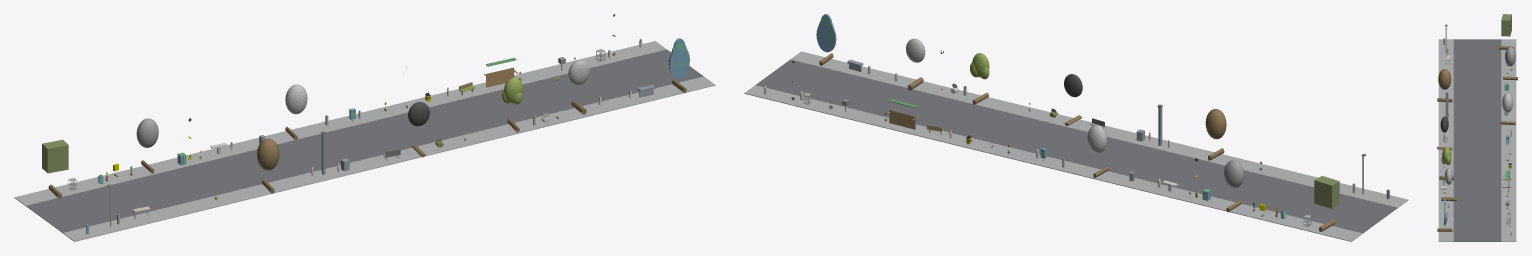
The picture shows the model from 3 angles, left to right: view 1: azimuth 30°, elevation 25°; view 2: azimuth 150°, elevation 25°; view 3: azimuth 270°, elevation 25°; orthographic projection. The views are drawn at different scales.
Parts seen in each view (by area): view 1: road_slab, sidewalk_left, sidewalk_right, inst_0018, inst_0025, inst_0020, inst_0021, inst_0019, inst_0023, inst_0024, inst_0022, inst_0026; view 2: road_slab, sidewalk_right, sidewalk_left, inst_0018, inst_0025, inst_0020, inst_0021, inst_0019, inst_0023, inst_0024, inst_0026, inst_0022; view 3: road_slab, sidewalk_right, sidewalk_left, inst_0018, inst_0020, inst_0021, inst_0019, inst_0023, inst_0024, inst_0022, inst_0025, inst_0008 (+2 smaller).
Part boxes in pixels (left/top/right/bottom): road_slab: left=26, top=49, right=703, bottom=232; sidewalk_left: left=63, top=76, right=715, bottom=241; sidewalk_right: left=14, top=41, right=666, bottom=205; inst_0018: left=42, top=139, right=68, bottom=198; inst_0025: left=668, top=38, right=689, bottom=93; inst_0020: left=257, top=138, right=279, bottom=193; inst_0021: left=285, top=84, right=307, bottom=140; inst_0019: left=136, top=118, right=158, bottom=173; inst_0023: left=501, top=77, right=523, bottom=132; inst_0024: left=568, top=60, right=589, bottom=114; inst_0022: left=408, top=102, right=429, bottom=157; inst_0026: left=484, top=57, right=518, bottom=87; road_slab: left=755, top=59, right=1397, bottom=233; sidewalk_right: left=744, top=85, right=1362, bottom=241; sidewalk_left: left=790, top=51, right=1408, bottom=207; inst_0018: left=1314, top=176, right=1339, bottom=231; inst_0025: left=816, top=14, right=836, bottom=65; inst_0020: left=1205, top=109, right=1226, bottom=160; inst_0021: left=1087, top=125, right=1109, bottom=177; inst_0019: left=1224, top=160, right=1244, bottom=212; inst_0023: left=970, top=53, right=989, bottom=104; inst_0024: left=906, top=38, right=925, bottom=90; inst_0026: left=887, top=99, right=919, bottom=129; inst_0022: left=1064, top=74, right=1082, bottom=125; road_slab: left=1453, top=39, right=1501, bottom=241; sidewalk_right: left=1501, top=39, right=1516, bottom=241; sidewalk_left: left=1438, top=39, right=1453, bottom=241; inst_0018: left=1499, top=14, right=1514, bottom=49; inst_0020: left=1437, top=69, right=1452, bottom=102; inst_0021: left=1500, top=93, right=1515, bottom=124; inst_0019: left=1503, top=47, right=1517, bottom=80; inst_0023: left=1439, top=147, right=1454, bottom=180; inst_0024: left=1441, top=168, right=1456, bottom=201; inst_0022: left=1437, top=116, right=1452, bottom=149; inst_0025: left=1437, top=199, right=1452, bottom=231; inst_0008: left=1445, top=92, right=1448, bottom=119.
Bounding box in the file's own units: 80 × 6.08 × 13.52.
